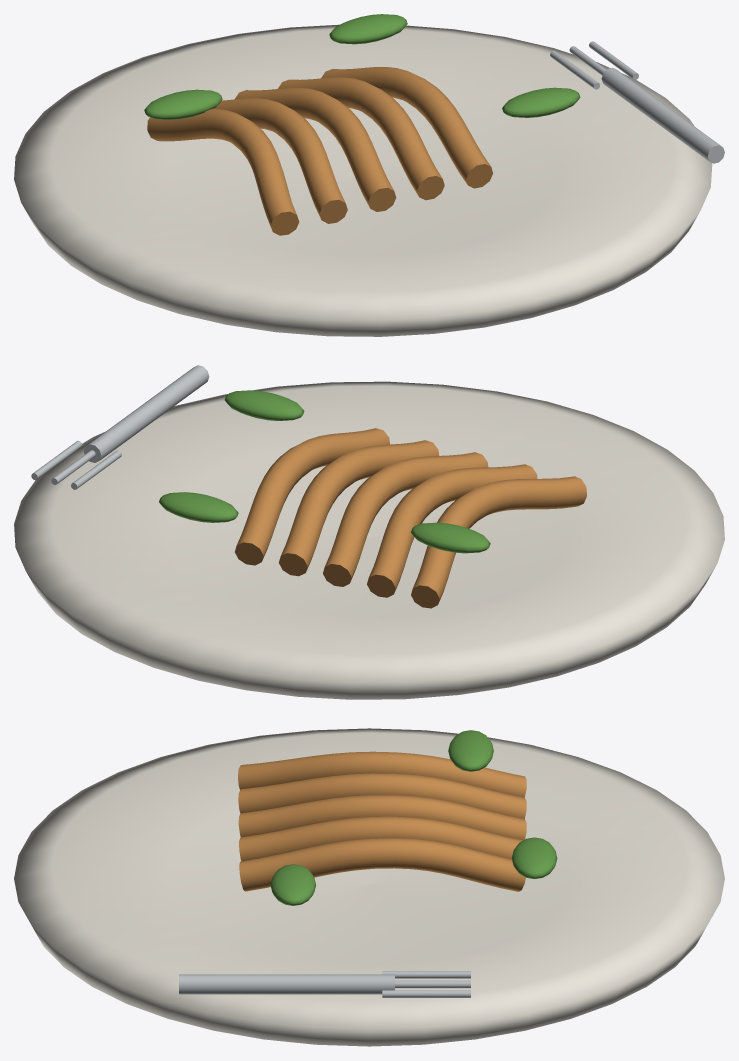
Rendered from sku_bistro_plate.glb.
The picture shows the model from 3 angles, top to bottom: view 1: azimuth 30°, elevation 25°; view 2: azimuth 150°, elevation 25°; view 3: azimuth 270°, elevation 25°; orthographic projection.
Visible parts, largest first — view 1: sku_bistro_plate_FY21_chalk_lacquer, sku_bistro_plate_Laminated_pastry, sku_bistro_plate_FY21_fresh_leaf, sku_bistro_plate_Brushed_stainless; view 2: sku_bistro_plate_FY21_chalk_lacquer, sku_bistro_plate_Laminated_pastry, sku_bistro_plate_FY21_fresh_leaf, sku_bistro_plate_Brushed_stainless; view 3: sku_bistro_plate_FY21_chalk_lacquer, sku_bistro_plate_Laminated_pastry, sku_bistro_plate_Brushed_stainless, sku_bistro_plate_FY21_fresh_leaf.
Part boxes in pixels (bbox=[...]): sku_bistro_plate_FY21_chalk_lacquer: bbox=[14, 24, 712, 336]; sku_bistro_plate_Laminated_pastry: bbox=[147, 67, 492, 235]; sku_bistro_plate_FY21_fresh_leaf: bbox=[144, 14, 580, 119]; sku_bistro_plate_Brushed_stainless: bbox=[550, 41, 724, 163]; sku_bistro_plate_FY21_chalk_lacquer: bbox=[14, 381, 724, 699]; sku_bistro_plate_Laminated_pastry: bbox=[235, 428, 586, 608]; sku_bistro_plate_FY21_fresh_leaf: bbox=[159, 390, 490, 553]; sku_bistro_plate_Brushed_stainless: bbox=[31, 365, 209, 489]; sku_bistro_plate_FY21_chalk_lacquer: bbox=[14, 728, 724, 1046]; sku_bistro_plate_Laminated_pastry: bbox=[238, 751, 526, 891]; sku_bistro_plate_Brushed_stainless: bbox=[179, 971, 470, 997]; sku_bistro_plate_FY21_fresh_leaf: bbox=[270, 730, 557, 905].
Bounding box in the file's own units: 0.56 × 0.108 × 0.56.
